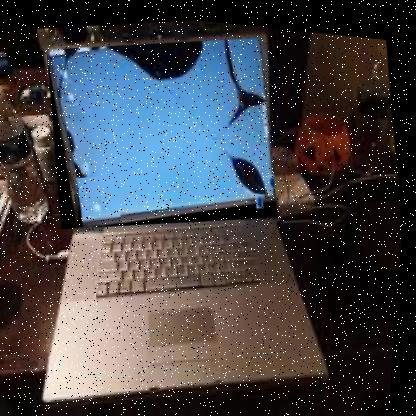crack: (37, 14, 291, 246)
spot: (76, 169, 129, 229), (257, 187, 268, 204)
